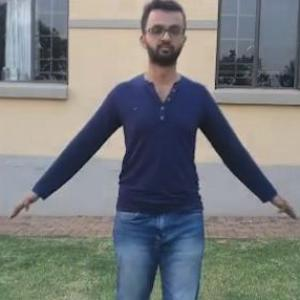land: (29, 0, 295, 299)
